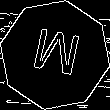M_S: (27, 26, 83, 84)
